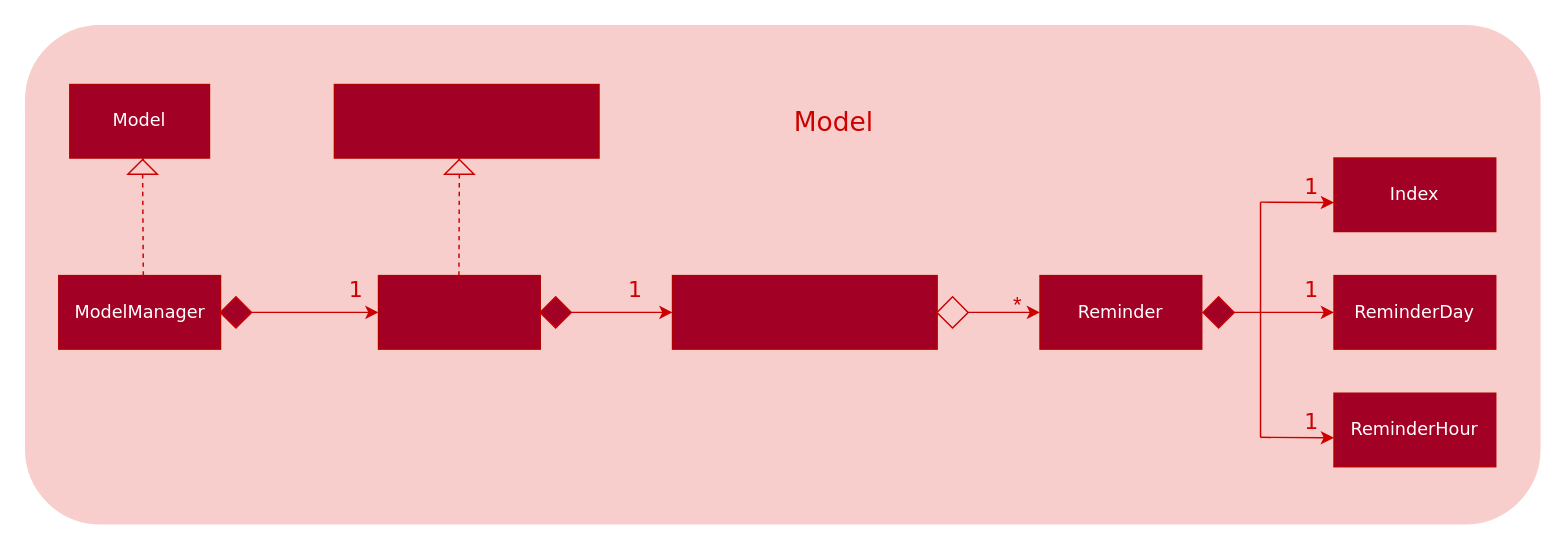
Some shapes in this 1566 by 550 pixel diagram are drawn without their labels. The shapes that lost their labels are listed below. From the top down, each one's centre as x and y in pixels, then its label:
point (466, 120): <<interface>> ReadOnlyJelphaBot
point (458, 311): JelphaBot
point (804, 311): UniqueReminderList
